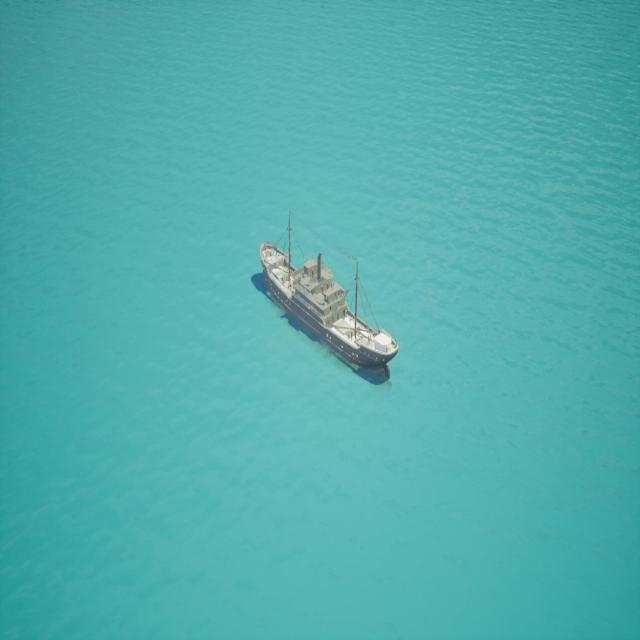fishing ship: (254, 213, 398, 388)
